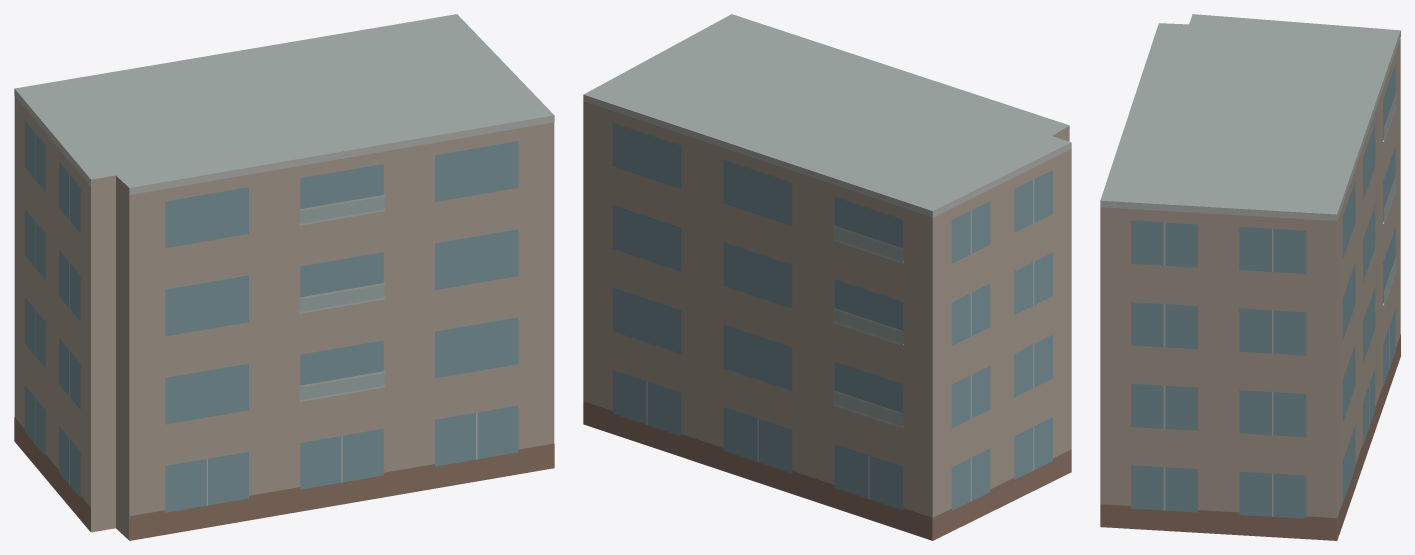
File: survey-upis-32687293.glb
3 renders of one model, left to right at view 1: azimuth 30°, elevation 25°; view 2: azimuth 150°, elevation 25°; view 3: azimuth 270°, elevation 25°, orthographic. The views are drawn at different scales.
Visible parts, largest first — view 1: survey-upis-32687293.tmp; view 2: survey-upis-32687293.tmp; view 3: survey-upis-32687293.tmp.
Boxes of the visible parts, box(x1,y1,x2,y2) form: survey-upis-32687293.tmp: box(14, 14, 554, 540); survey-upis-32687293.tmp: box(583, 14, 1071, 540); survey-upis-32687293.tmp: box(1100, 14, 1400, 540).
Bounding box in the file's own units: 16.09 × 12.2 × 10.19.
